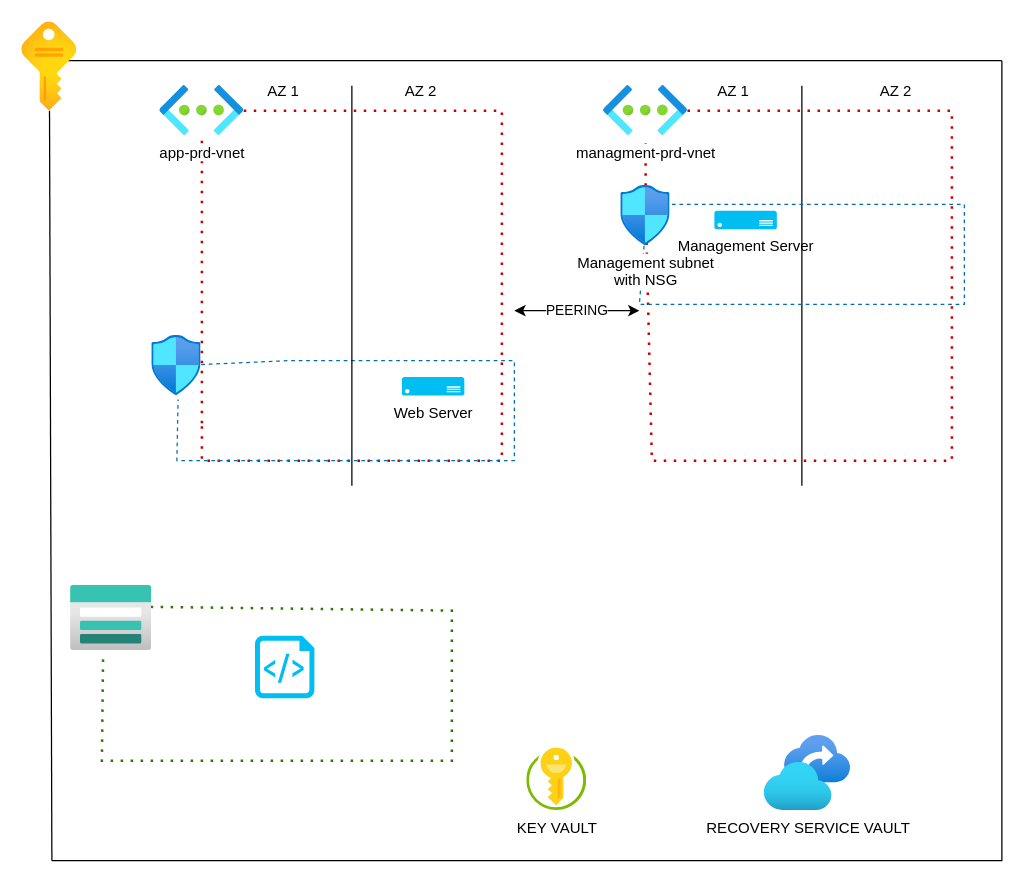
This 1025x884 diagram has some shape labels left out. The shapes that lost their labels are listed below. From the top down, each one's centre as x and y in pixels, then its label:
At pixel 176 365: "Application subnet with NSG".
At pixel 110 617: "Storage Account".
At pixel 284 666: "Post Deployment Scripts".
